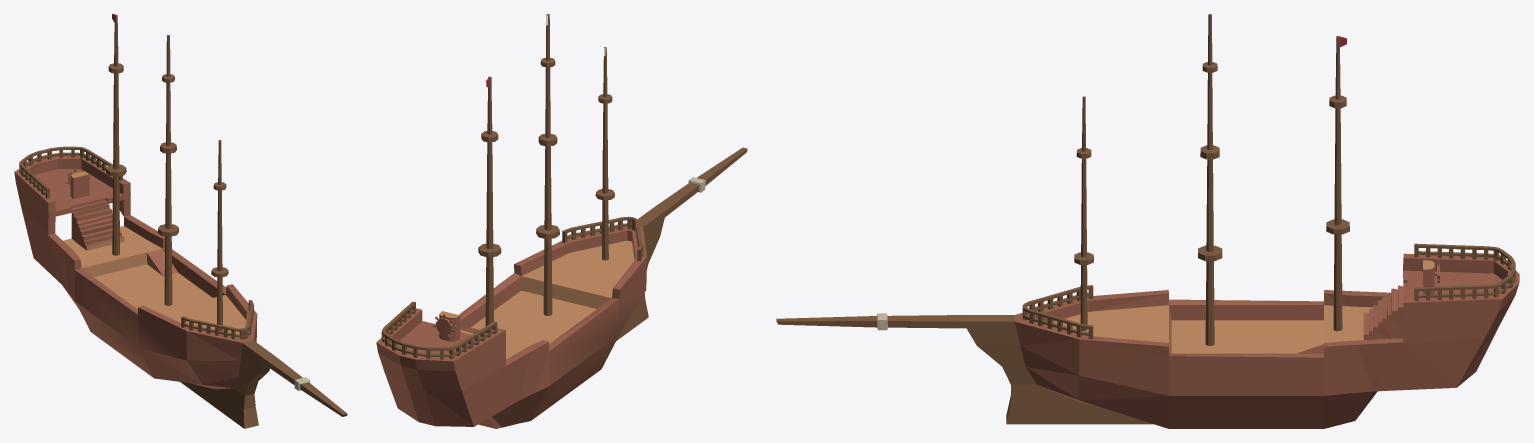
File: Sail Ship.glb
The picture shows the model from 3 angles, left to right: view 1: azimuth 30°, elevation 25°; view 2: azimuth 150°, elevation 25°; view 3: azimuth 270°, elevation 25°; orthographic projection. The views are drawn at different scales.
Visible parts, largest first — view 1: BigShip; view 2: BigShip; view 3: BigShip.
Part boxes in pixels (left/top/right/bottom): BigShip: left=14, top=14, right=347, bottom=428; BigShip: left=376, top=14, right=747, bottom=428; BigShip: left=776, top=14, right=1519, bottom=428.
Size of the model in its own units: 1.15 by 3.84 by 6.38.
